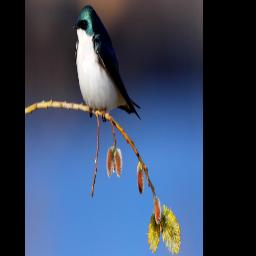Swallow: (72, 3, 142, 120)
